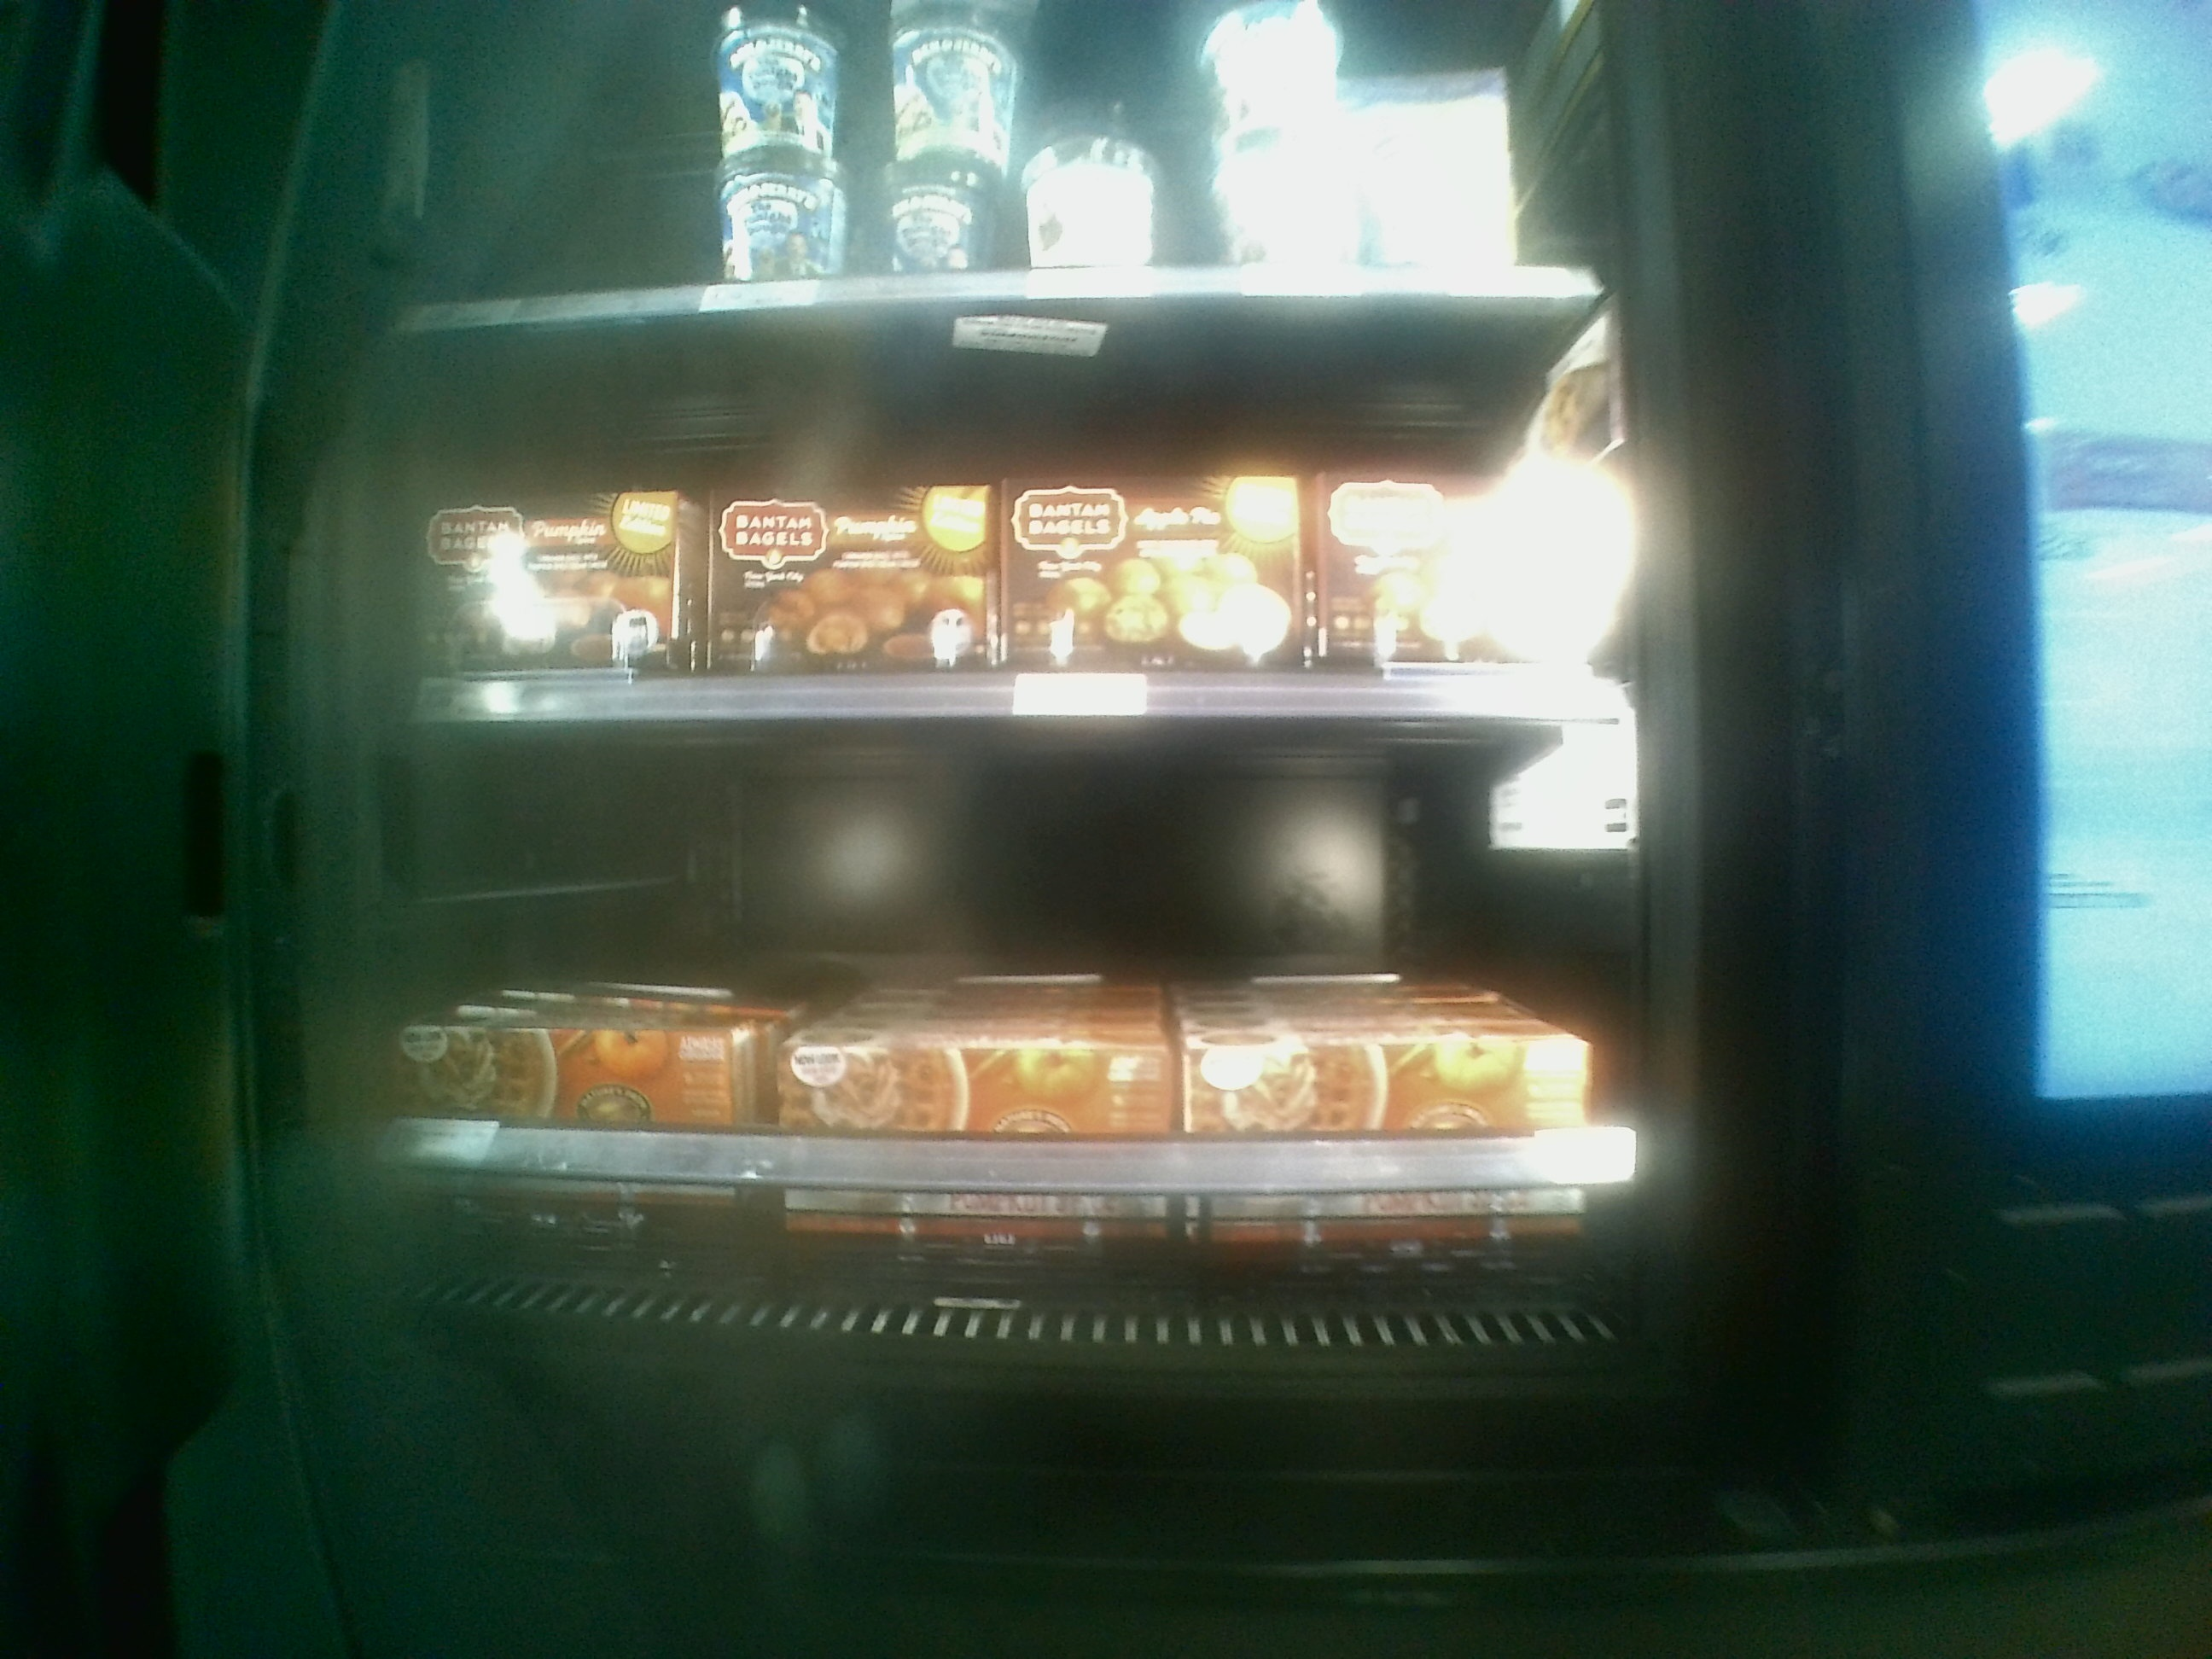shelf: (345, 730, 1655, 1401), (364, 321, 1641, 735)
